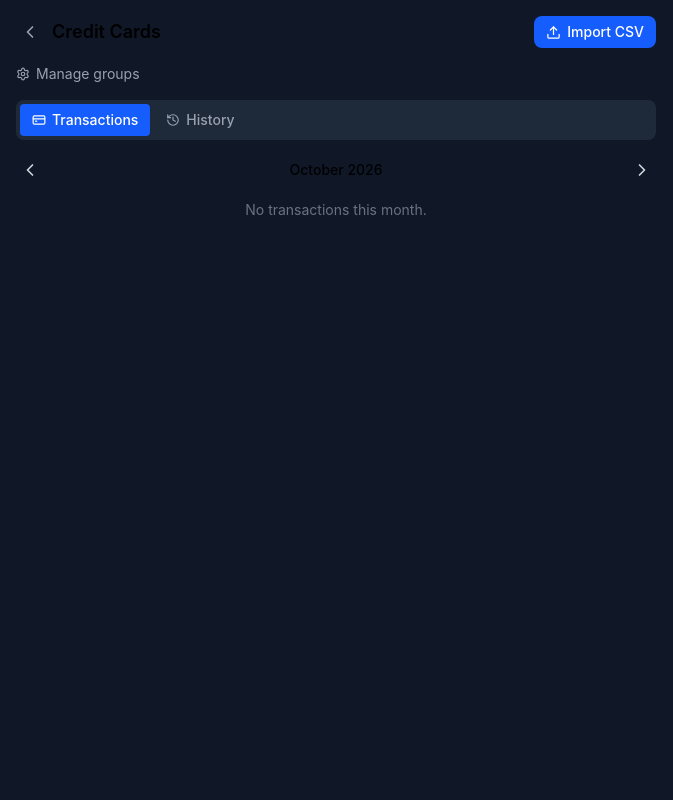
Scenario: BudgetCreditCards – group management › shows group list when manage groups is expanded
The width and height of the screenshot is (673, 800).
Click the button "Manage groups" at (78, 74), box [16,64,140,84]
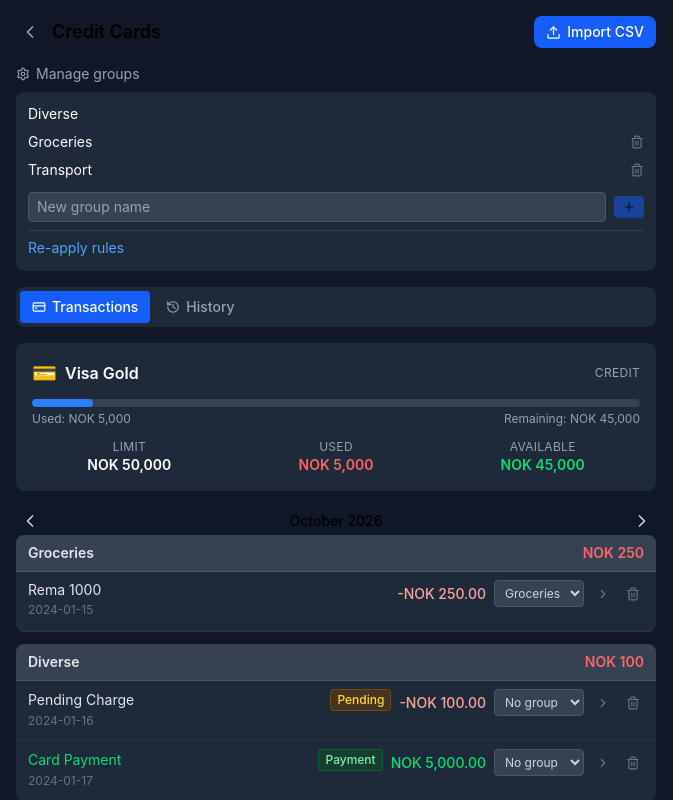
Check: the 1st text "Diverse" is shown, box [28,104,78,124]
Check: the text "Transport" is shown, box [28,160,92,180]
